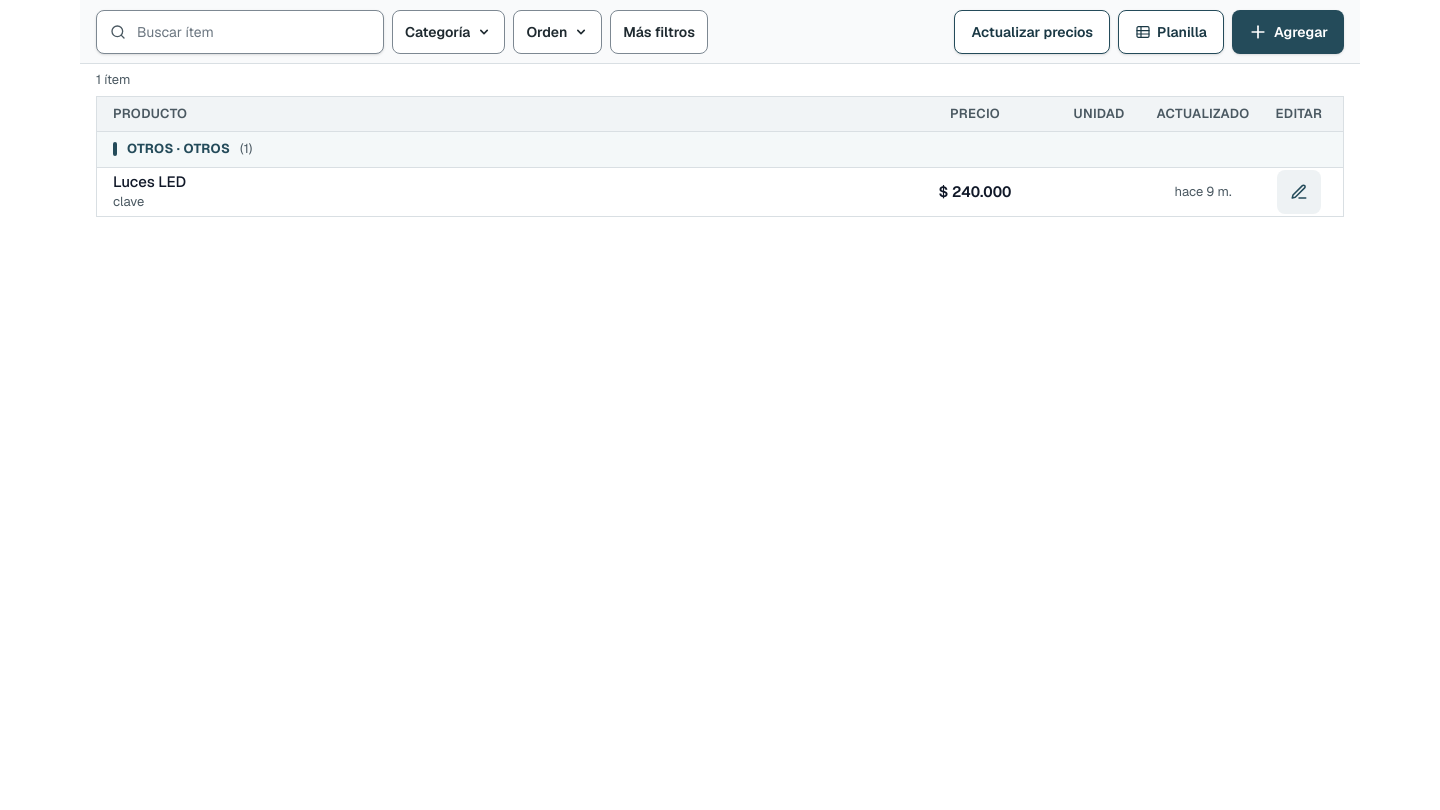
CatalogoPage · edición › cancelar la edición no cambia el listado
Step 1. Click the button named "Editar" → (1299, 192), box [1277,170,1321,214]
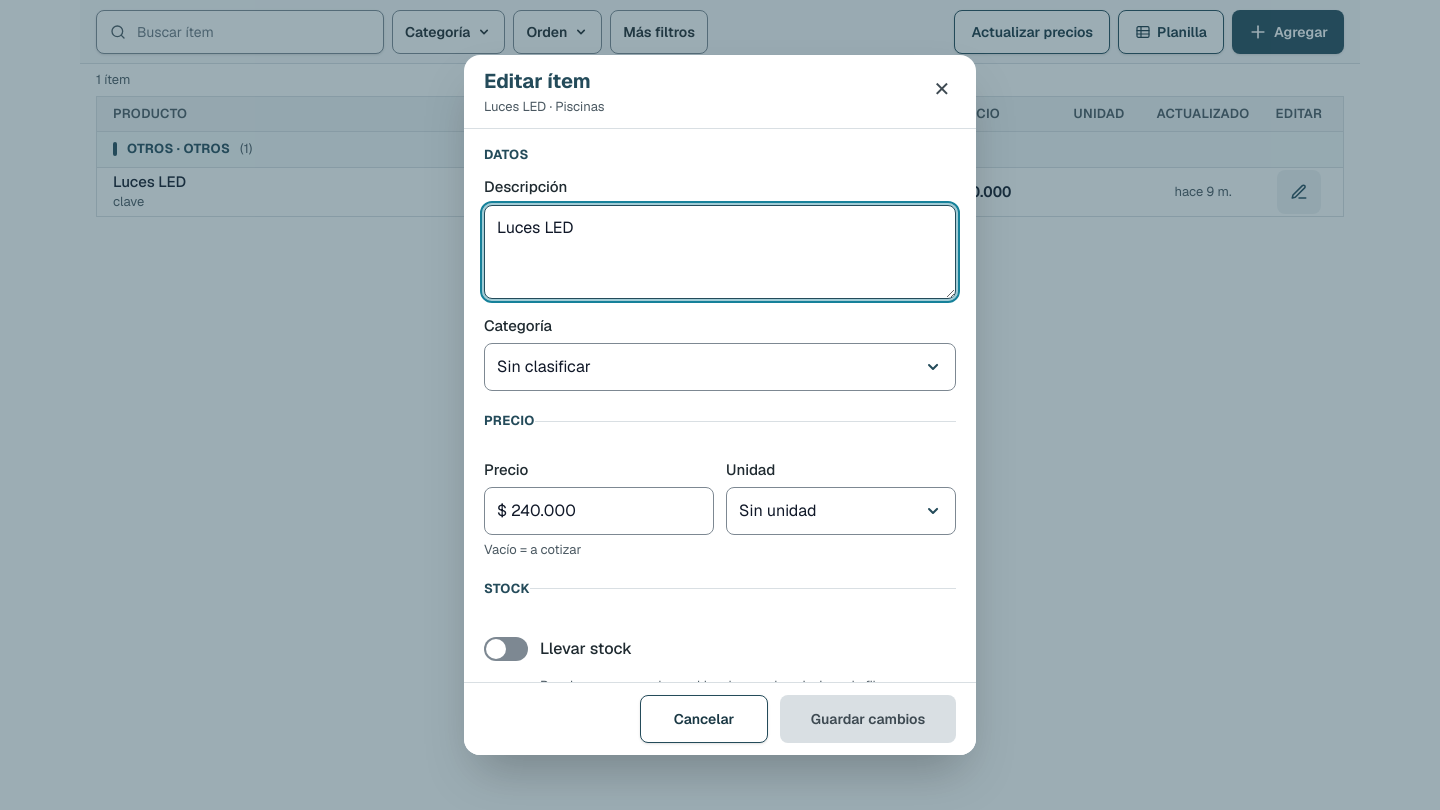
Check: the field labelled "Precio" is shown, box [484,487,714,535]
Step 2. Click the button "Cancelar" → (704, 719), box [640,695,768,743]
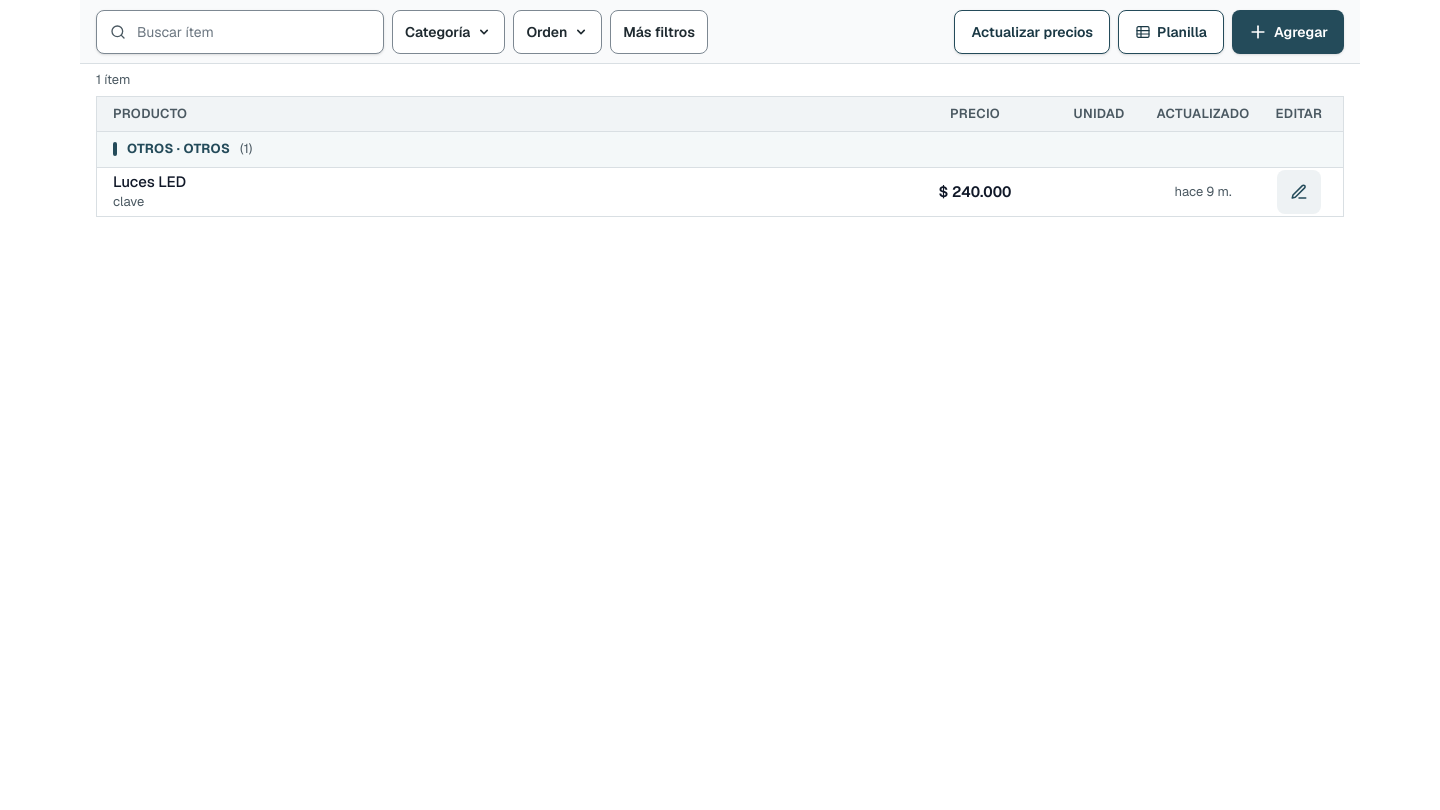
Check: the text "$ 240.000" is shown, box [938,182,1011,200]
Check: the dialog is gone
